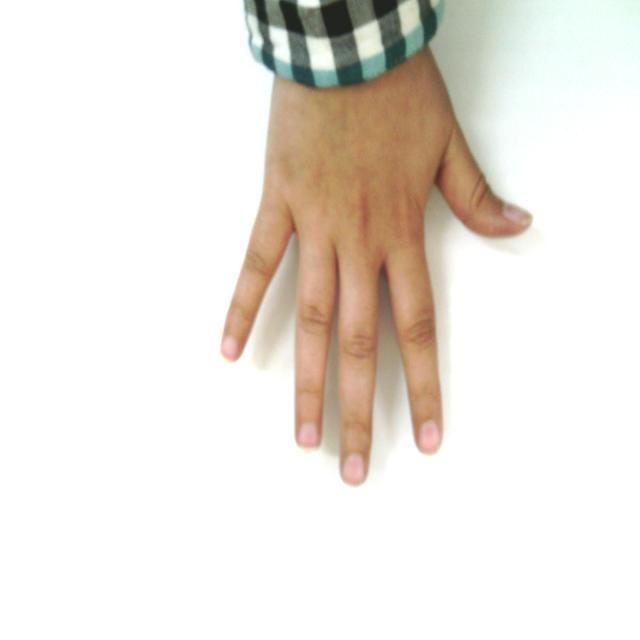Fingernail: (420, 422, 439, 453), (344, 455, 364, 484), (504, 204, 531, 224), (299, 424, 317, 448), (223, 338, 238, 359)
